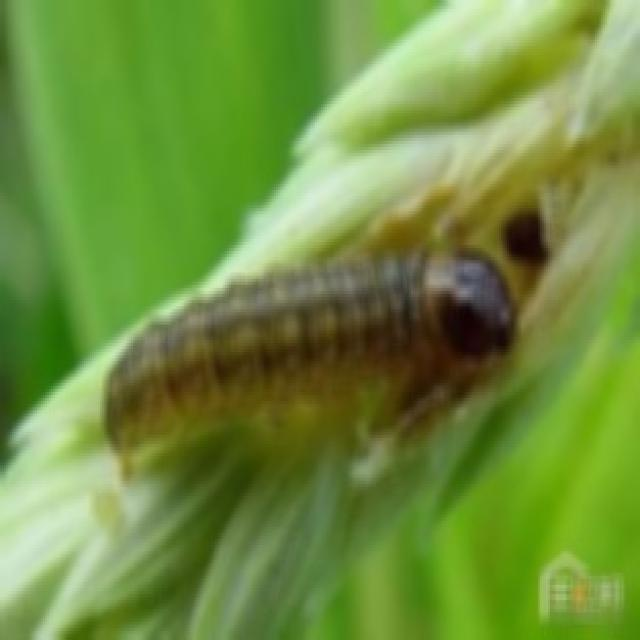peach borer: (93, 241, 522, 453)
